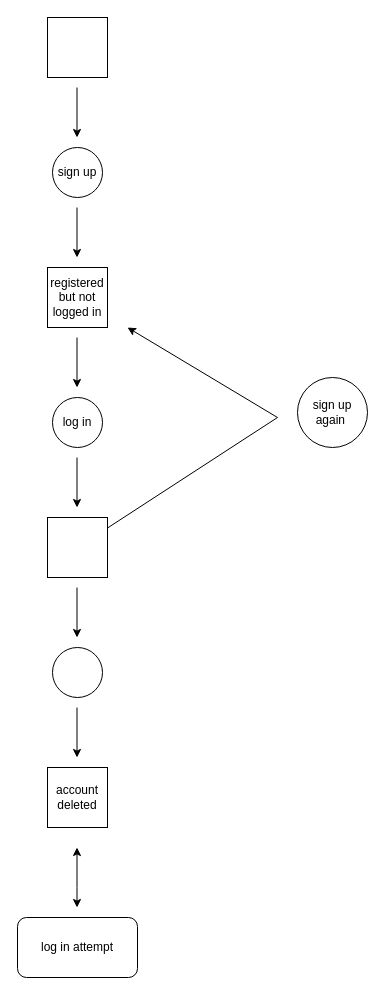
The diagram is 385 pixels wide and 995 high, and some of its shapes have lost their labels. Each missing label, with the box of its shape:
delete accountnt: (52, 646, 102, 698)
logged in: (46, 516, 108, 578)
not registered: (46, 16, 108, 78)
